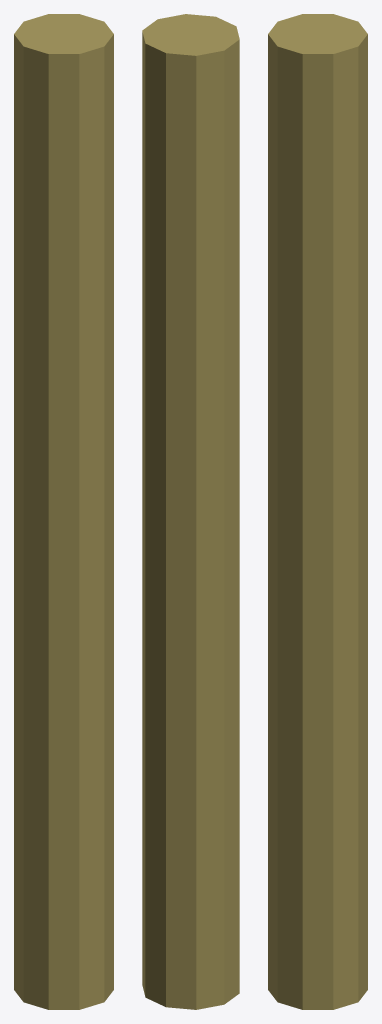
File: craft_bamboo_rib.glb
The picture shows the model from 3 angles, left to right: view 1: azimuth 90°, elevation 25°; view 2: azimuth 150°, elevation 25°; view 3: azimuth 270°, elevation 25°; orthographic projection.
Parts seen in each view (by area): view 1: CRAFT_BambooRib; view 2: CRAFT_BambooRib; view 3: CRAFT_BambooRib.
Boxes of the visible parts, <box> form: CRAFT_BambooRib: <box>14,14,113,1009</box>; CRAFT_BambooRib: <box>142,14,239,1009</box>; CRAFT_BambooRib: <box>268,14,367,1009</box>.
Size of the model in its own units: 0.0342 by 0.38 by 0.036.
